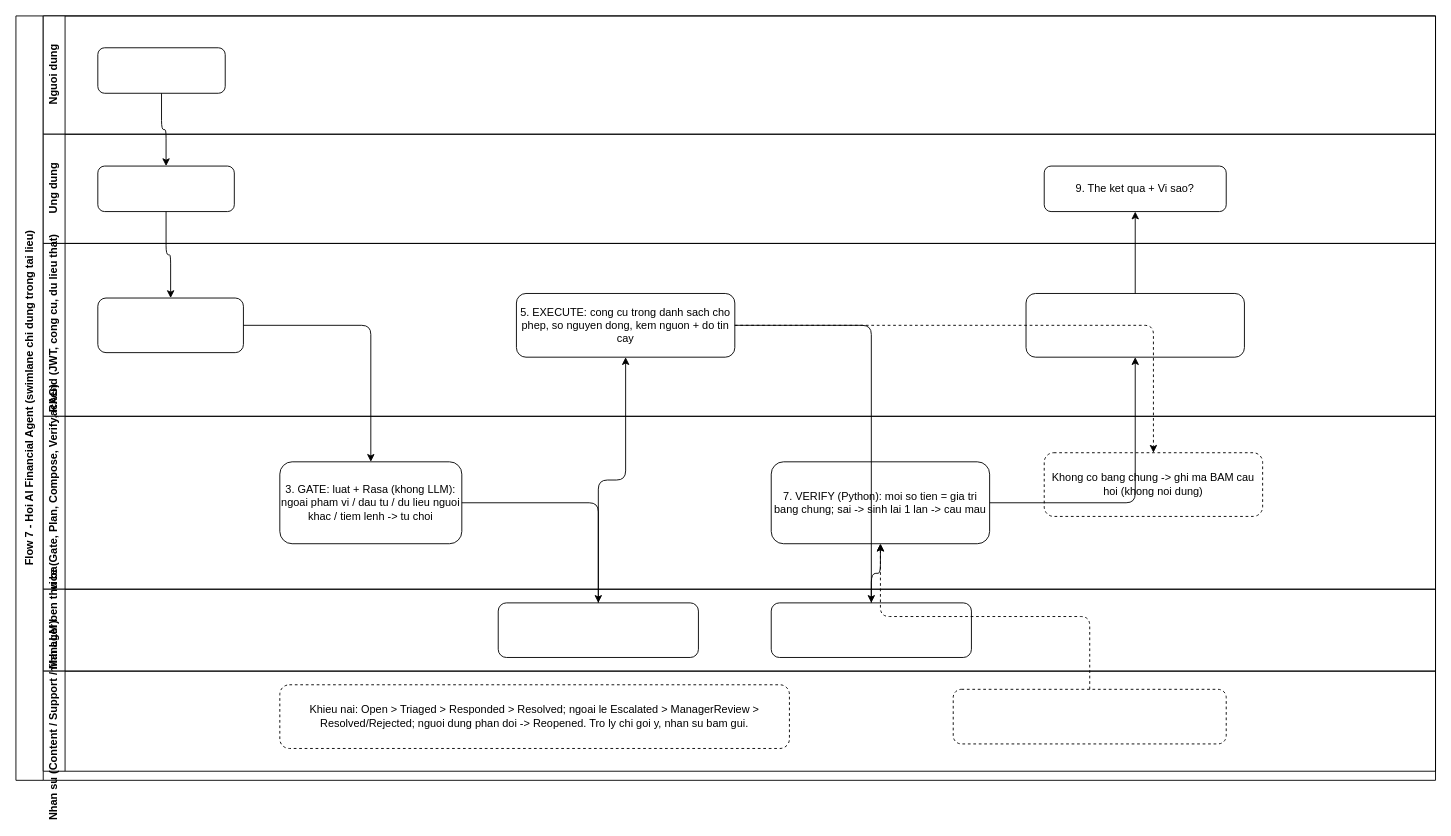
Image size: 1451x836. Some labels were removed from this diagram. The shapes that lost their labels are listed below. From the top down, each one's centre as x and y in pixels, then its label:
point (161, 70): 1. Dat cau hoi
point (165, 188): POST /agent/ask (question)
point (170, 325): 2. userId tu JWT, gioi han 20 luot/phut
point (1134, 325): 8. Tra AgentAnswerDto: status, claims, evidence (nguon, ngay, tin cay), verdict
point (597, 629): 4. PLAN: chon cong cu + tham so (JSON), so tien doi chieu bo doc so tat dinh
point (870, 629): 6. COMPOSE: LLM viet menh de trich ma bang chung
point (1089, 716): Soan tai lieu (Draft); Manager duyet -> Approved; chi tai lieu Approved vao RAG
